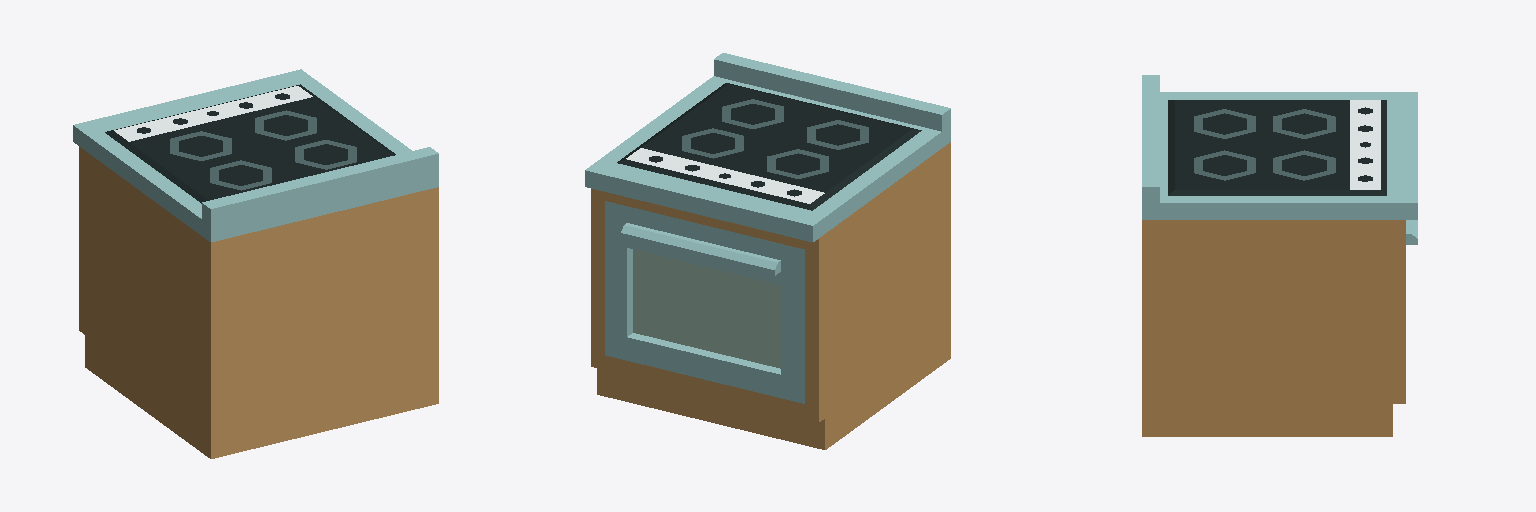
The model's file is kitchenStoveElectric.obj.
The picture shows the model from 3 angles: view 1: azimuth 30°, elevation 25°; view 2: azimuth 150°, elevation 25°; view 3: azimuth 270°, elevation 25°; orthographic projection.
Visible parts, largest first — view 1: kitchenStoveElectric; view 2: kitchenStoveElectric; view 3: kitchenStoveElectric.
Boxes of the visible parts, <box> form: kitchenStoveElectric: <box>73,69,438,458</box>; kitchenStoveElectric: <box>585,53,950,449</box>; kitchenStoveElectric: <box>1142,75,1417,436</box>.
Size of the model in its own units: 4.3 by 4.5 by 4.5.